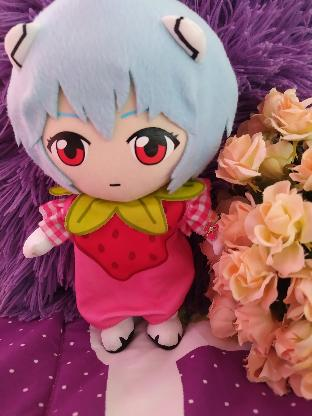rei-plush: (1, 0, 242, 200)
